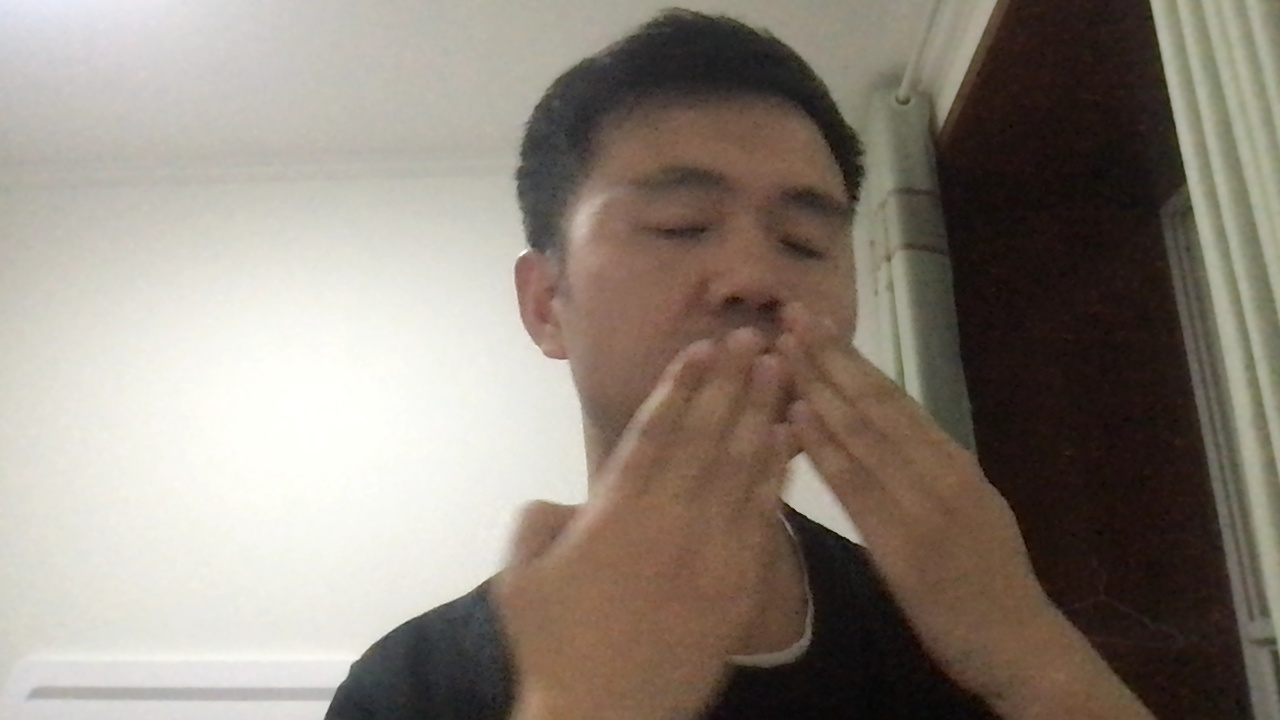thanks: (490, 308, 1077, 684)
